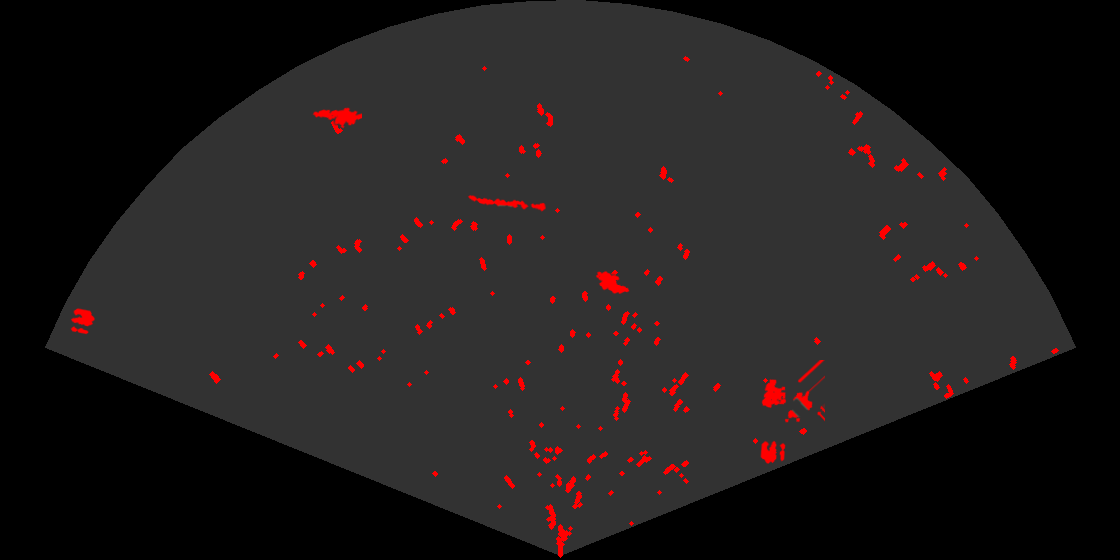AUV: (594, 269, 631, 296)
ball: (69, 307, 96, 336), (759, 439, 787, 465)
cage: (760, 360, 825, 424)
chain: (466, 194, 546, 213)
frogman: (311, 106, 362, 130)
